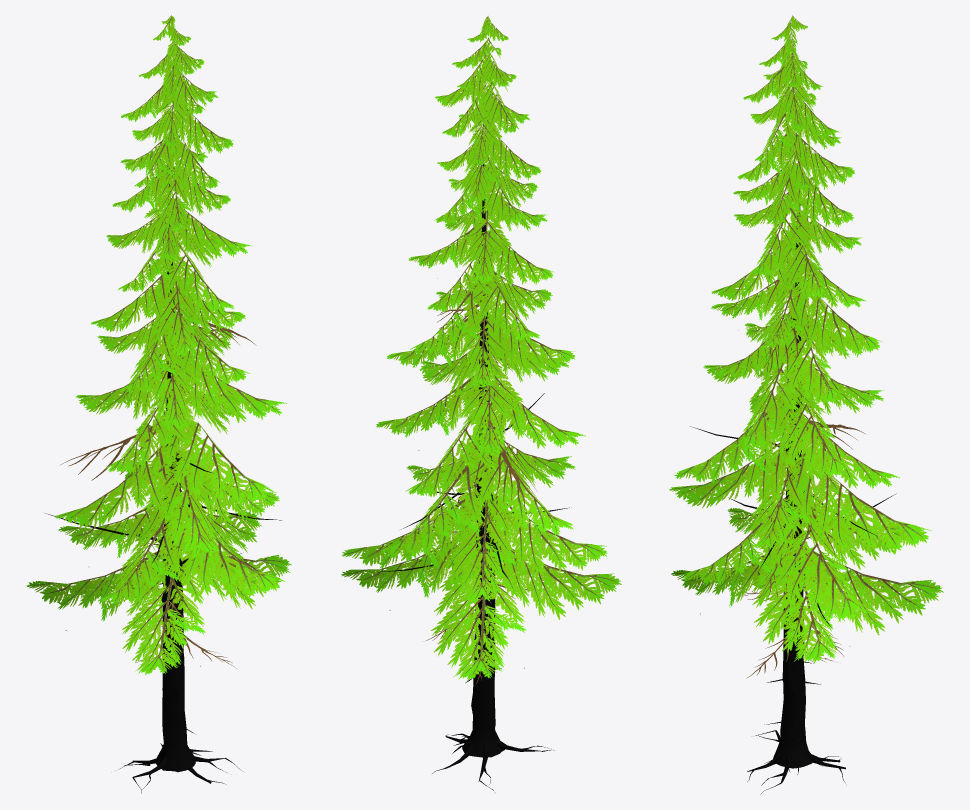
File: Spruce_Tree_V1.fbx
3 renders of one model, left to right at view 1: azimuth 30°, elevation 25°; view 2: azimuth 150°, elevation 25°; view 3: azimuth 270°, elevation 25°, orthographic. The views are drawn at different scales.
Visible parts, largest first — view 1: Spruce_Tree_V1_LOD0; view 2: Spruce_Tree_V1_LOD0; view 3: Spruce_Tree_V1_LOD0.
Part boxes in pixels (x1,y1,x2,y2): Spruce_Tree_V1_LOD0: (26, 15, 291, 793); Spruce_Tree_V1_LOD0: (341, 16, 621, 790); Spruce_Tree_V1_LOD0: (669, 15, 943, 794).
Size of what is drawn, in the model's own units: 427 by 1290 by 455.
